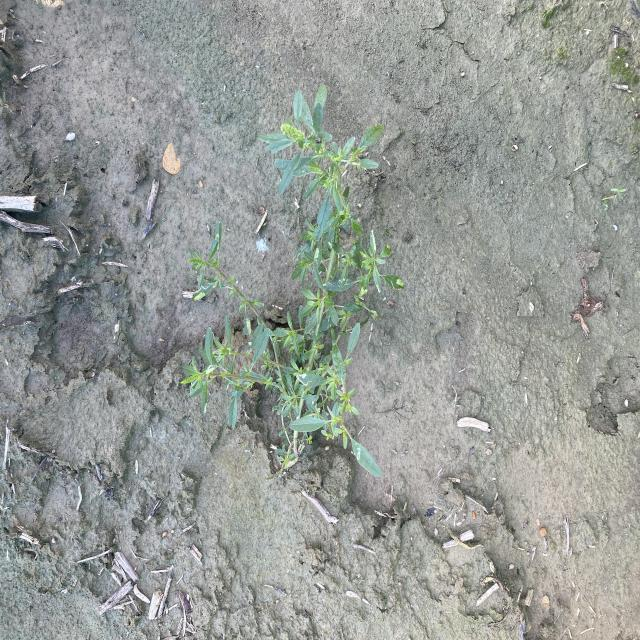Waterhemp: (180, 80, 405, 480)
